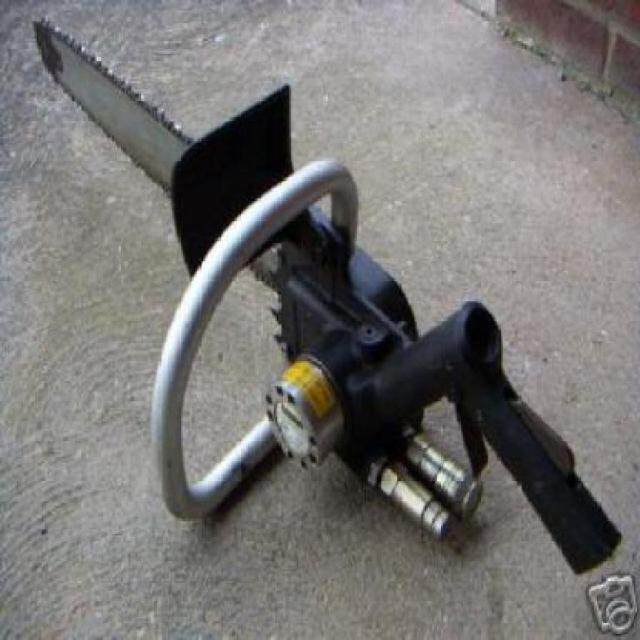Chainsaw: (35, 15, 640, 557)
